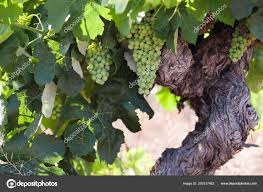grapes: (129, 22, 164, 94), (85, 39, 113, 86), (230, 25, 254, 65)
